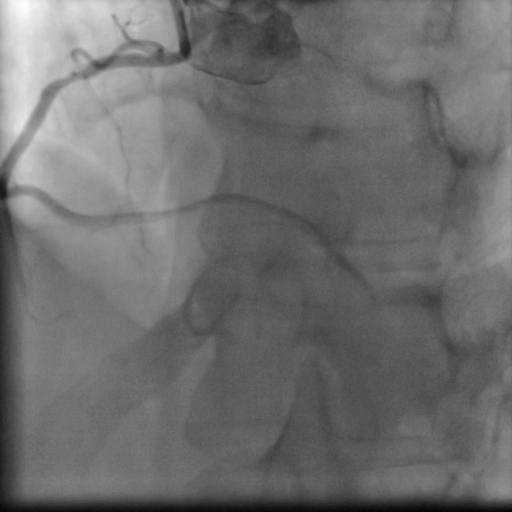Stenosis: (52, 66, 88, 89)
